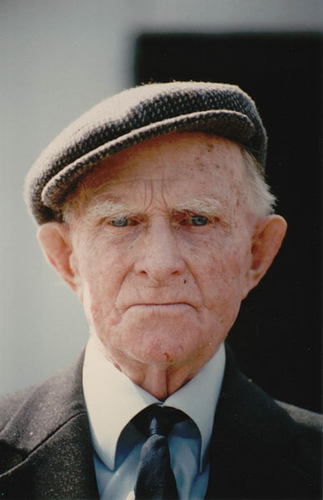without_mask: (49, 137, 287, 377)
